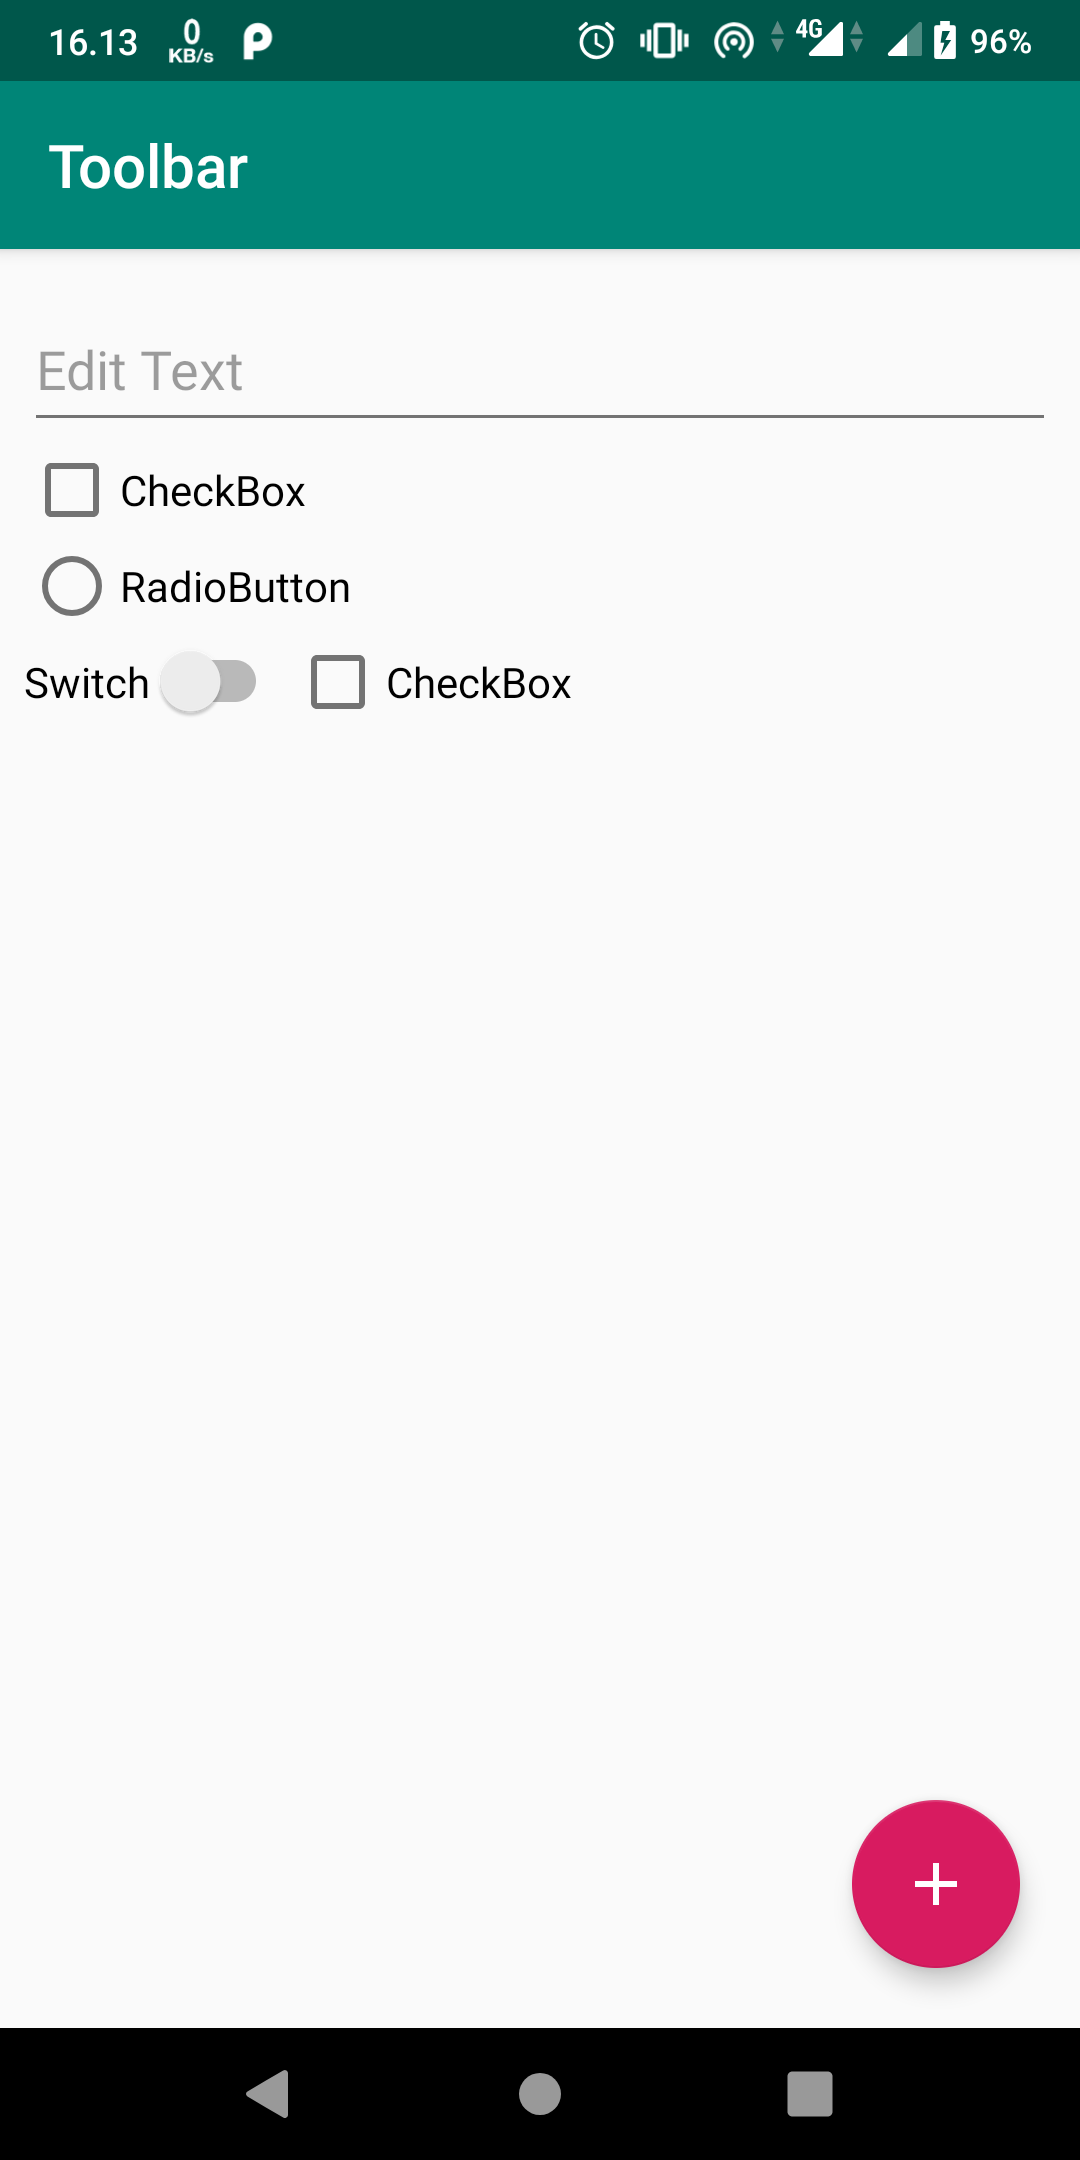checkBox: (33, 455, 322, 525), (304, 647, 574, 719)
editText: (30, 328, 1052, 438)
floatingButton: (846, 1799, 1019, 1973)
radioButton: (33, 541, 355, 623)
switch: (21, 647, 259, 719)
toolbar: (1, 80, 1080, 245)
